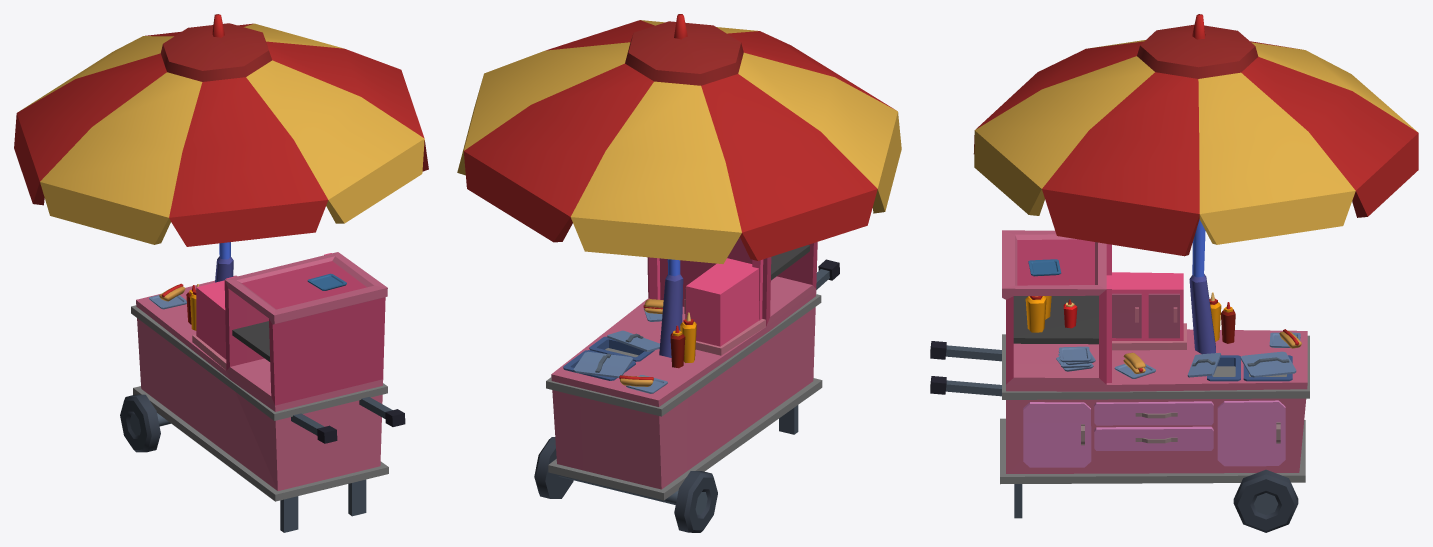
File: FoodCart_1_C.fbx
The picture shows the model from 3 angles, left to right: view 1: azimuth 30°, elevation 25°; view 2: azimuth 150°, elevation 25°; view 3: azimuth 270°, elevation 25°; orthographic projection. The views are drawn at different scales.
Visible parts, largest first — view 1: FoodCart_1_C; view 2: FoodCart_1_C; view 3: FoodCart_1_C.
Boxes of the visible parts, bbox=[...] form: FoodCart_1_C: bbox=[14, 14, 428, 532]; FoodCart_1_C: bbox=[457, 14, 901, 532]; FoodCart_1_C: bbox=[930, 14, 1418, 532].
Bounding box in the file's own units: 244 × 286 × 268.
